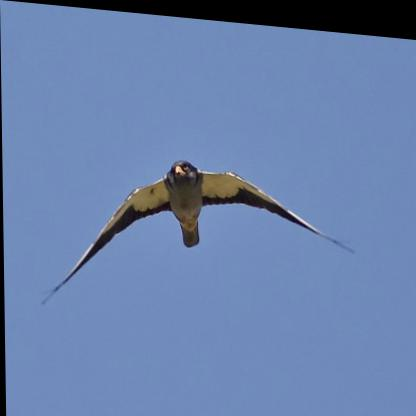Burung: (35, 144, 356, 333)
